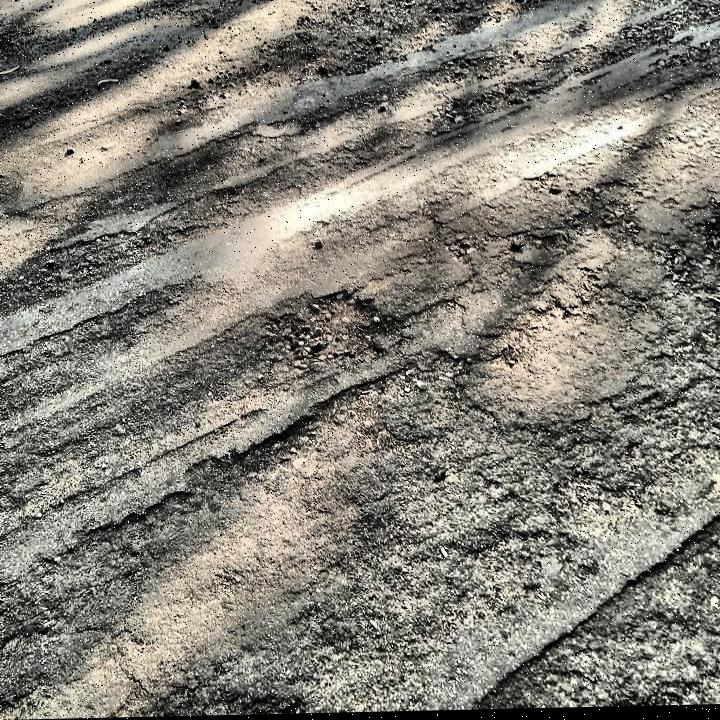pothole: (262, 286, 404, 368)
